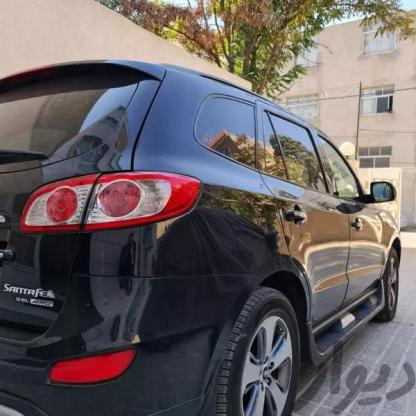Car: (0, 44, 416, 416)
